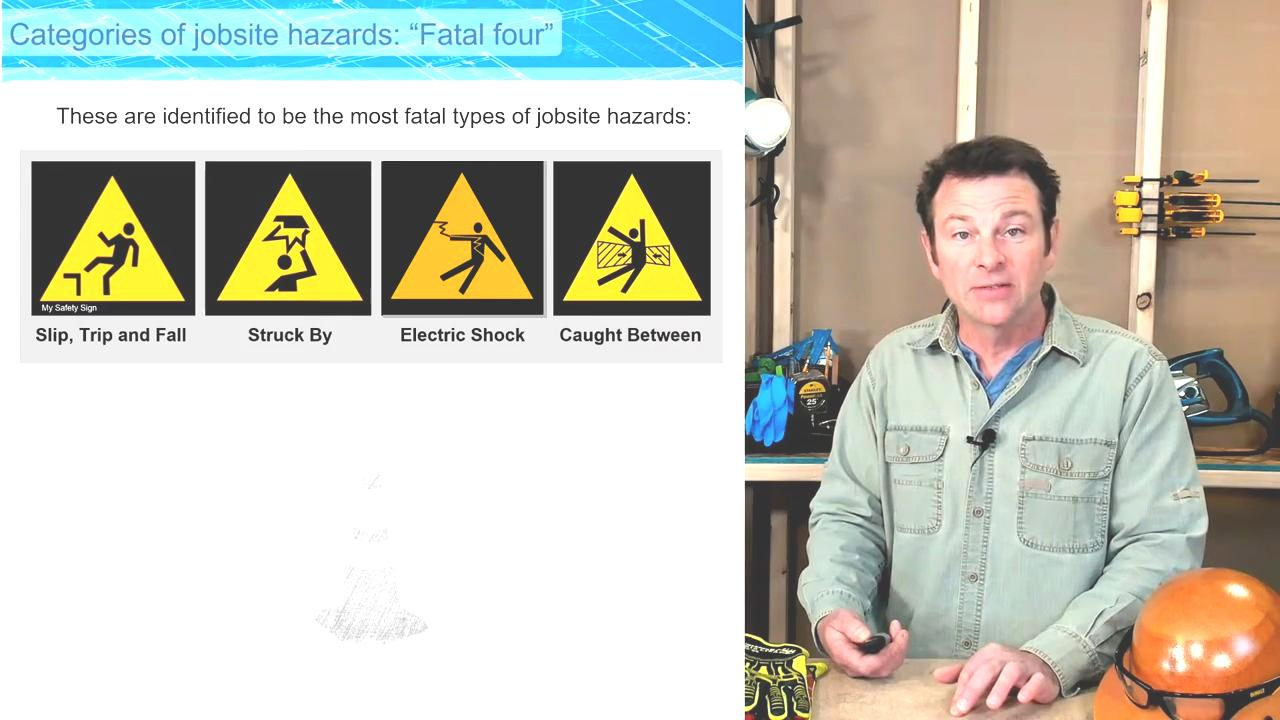safety_signage: (383, 162, 547, 319)
